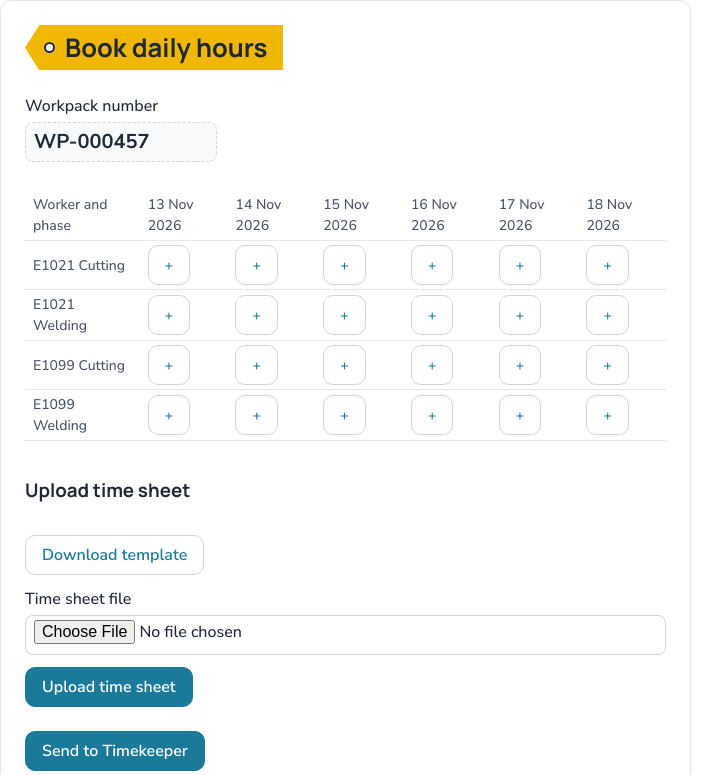
BookHours › BPA50_theServersMessageIsShown
Step 1. Click the button named "E1021 Cutting 17 Nov 2026" → coordinates (520, 265), box [499,245,541,285]
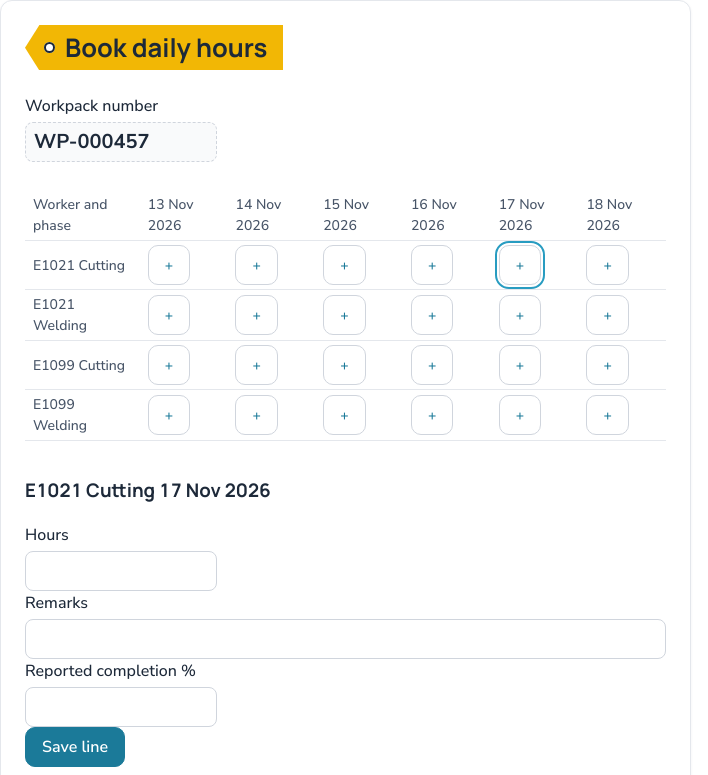
Step 2. Type "2" into the field labelled "Hours" → coordinates (121, 571), box [25,551,217,591]
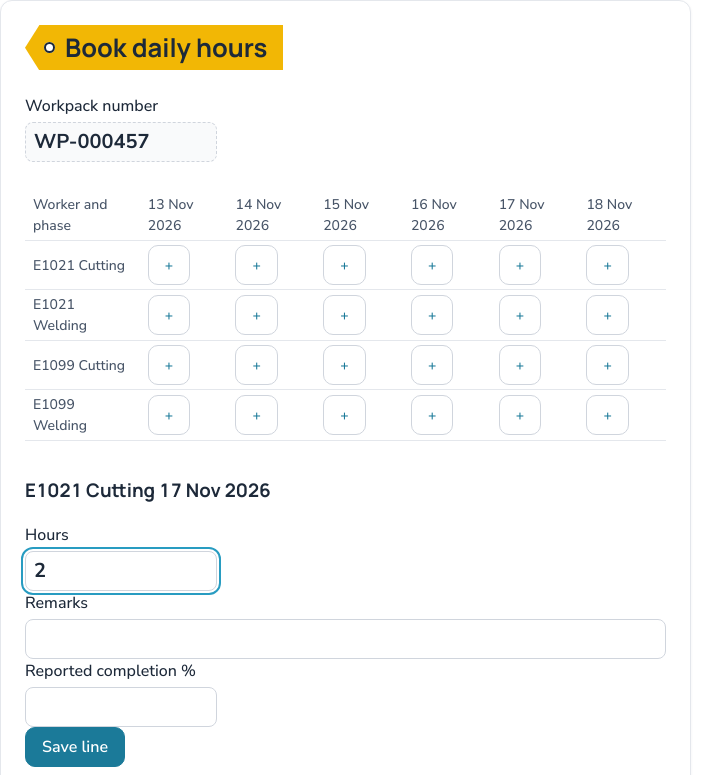
Step 3. Click the button "Save line" → coordinates (75, 747), box [25,727,125,767]
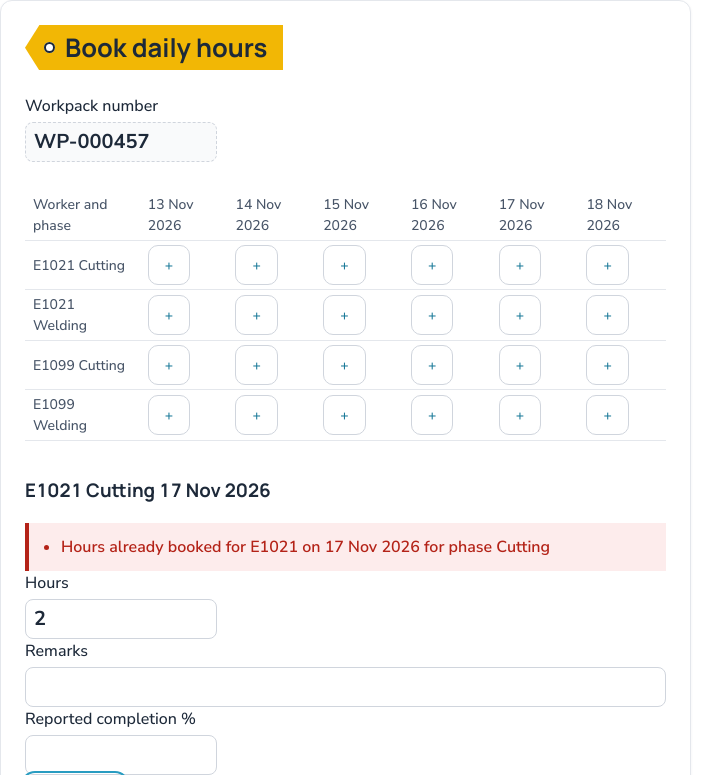
Expected: the message reads "Hours already booked for E1021 on 17 Nov 2026 for phase Cutting", [61,536,550,558]
